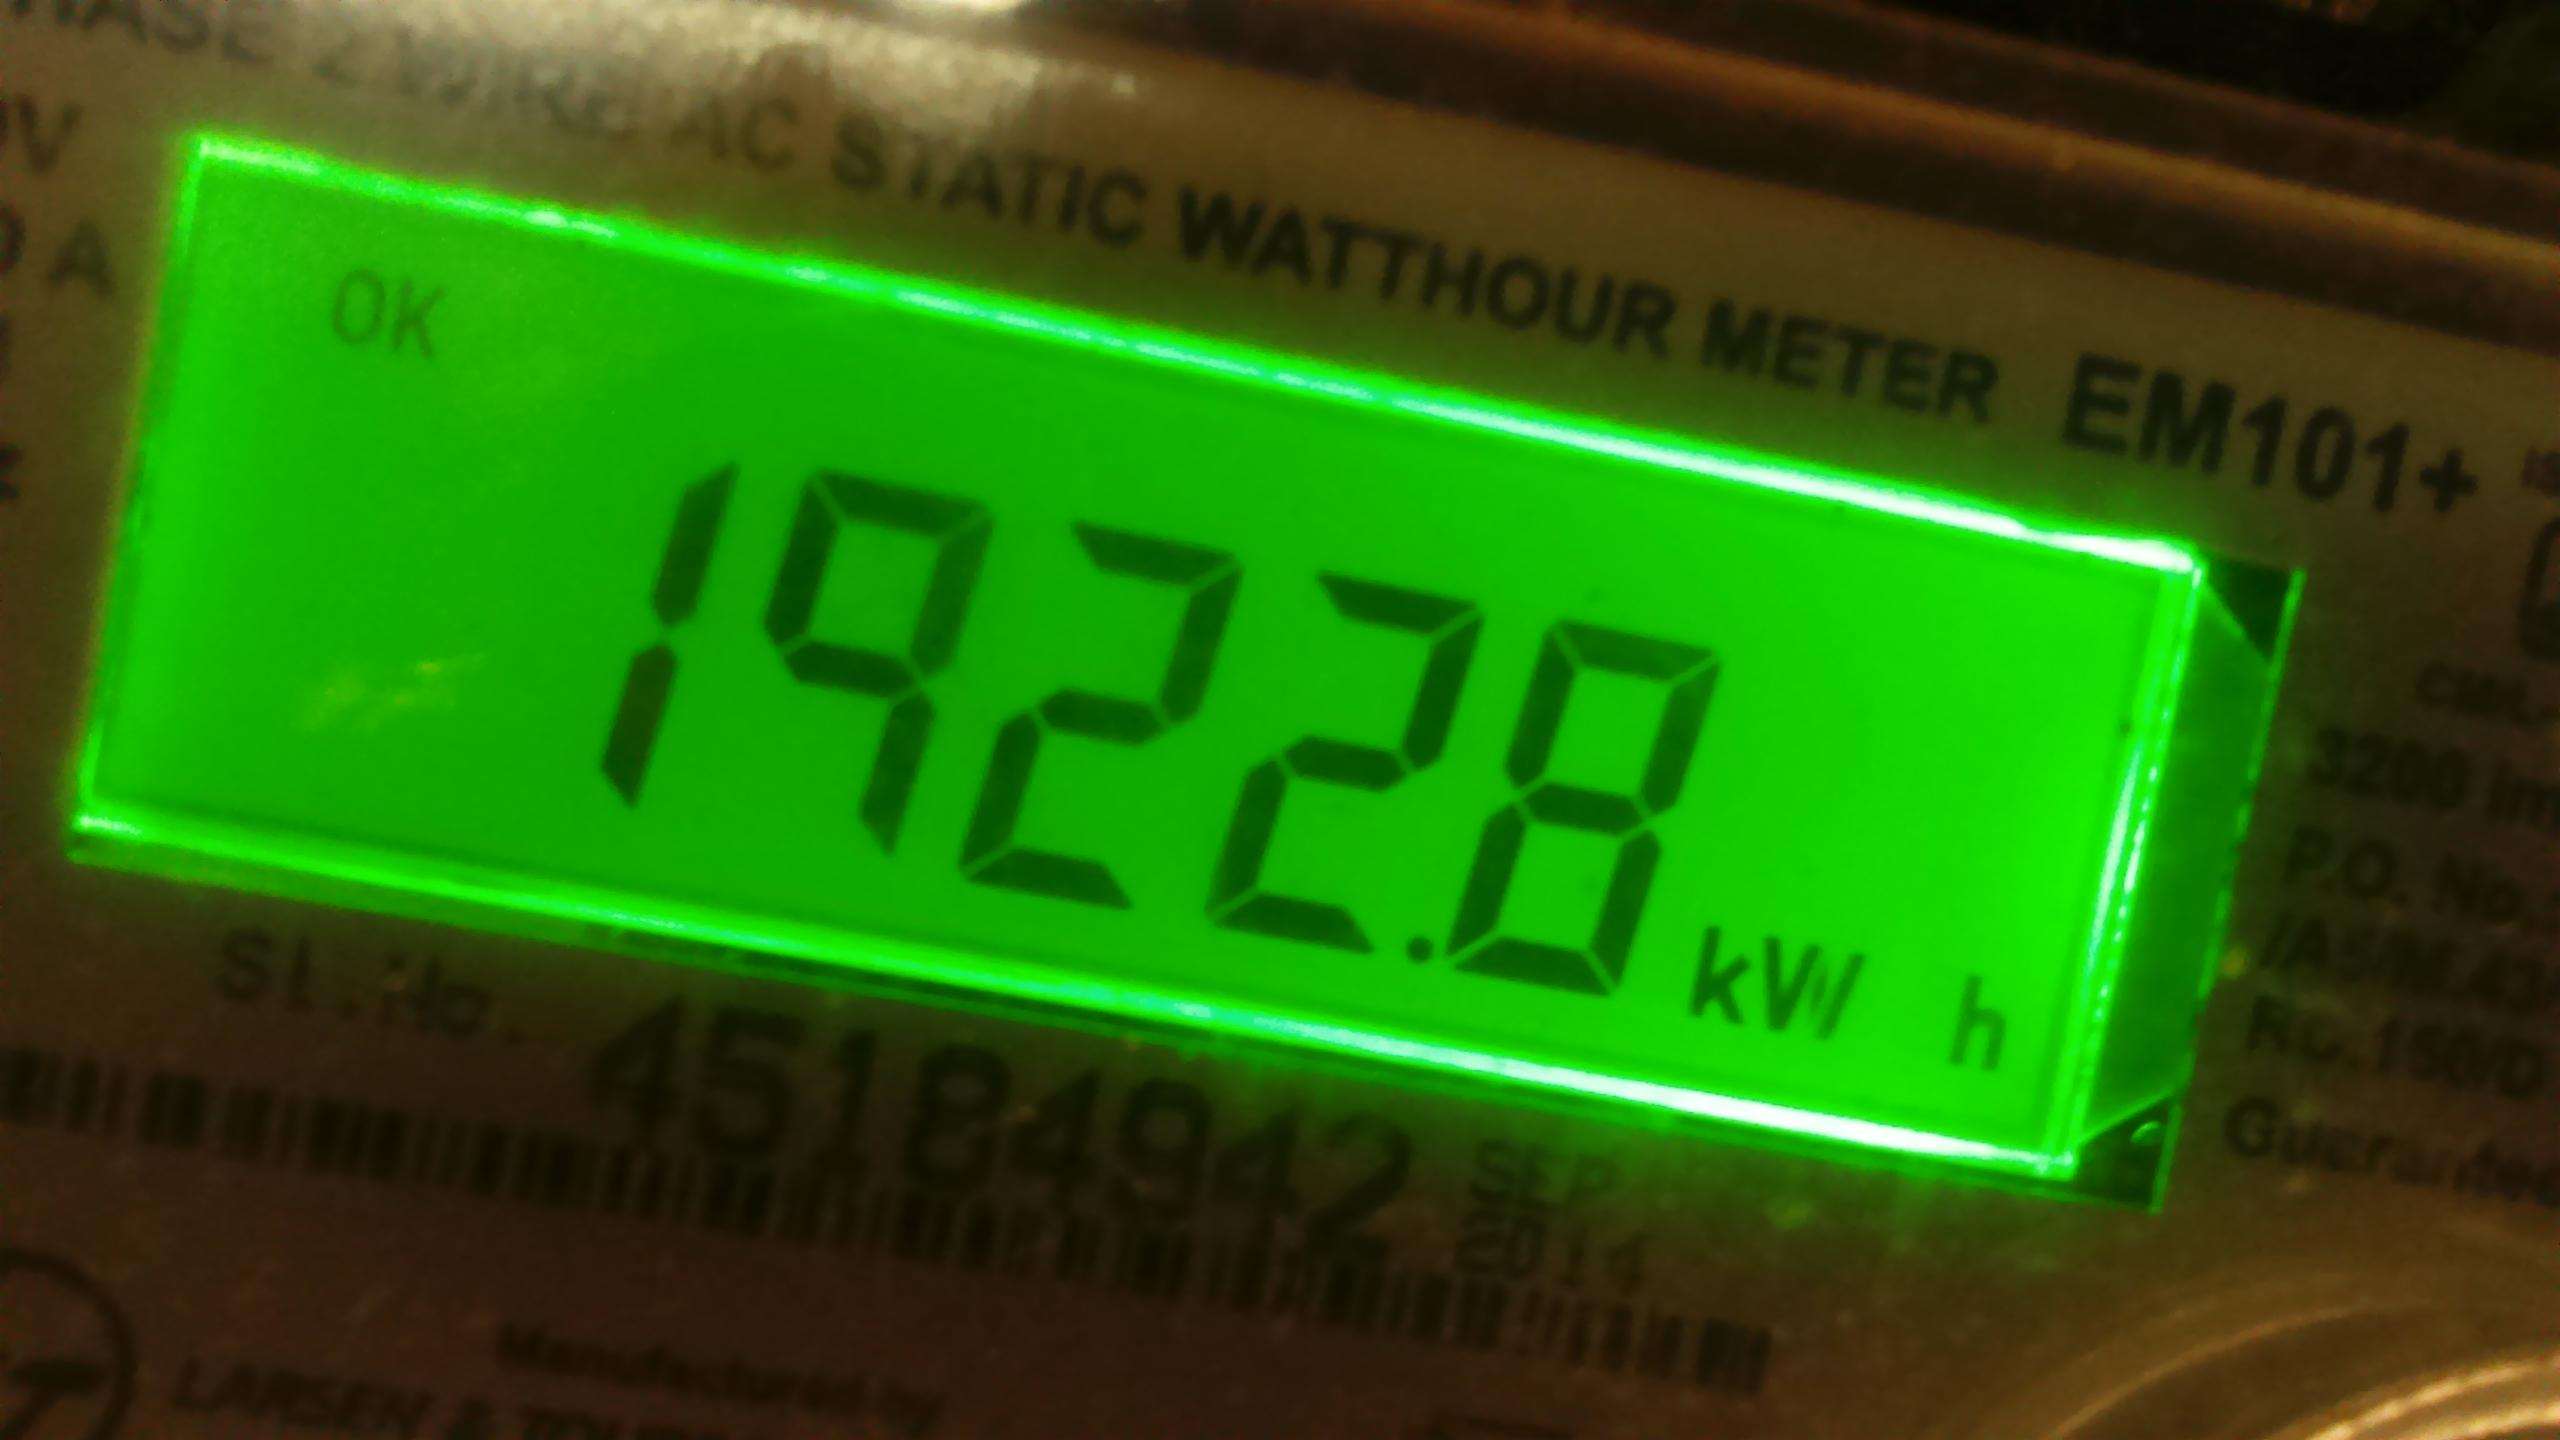.: (1676, 905, 2034, 1108)
0: (1335, 883, 1452, 1036)
2: (508, 394, 782, 842)
3: (948, 484, 1247, 890), (1194, 552, 1477, 953)
9: (1468, 614, 1720, 1009)
:: (724, 454, 1022, 862)
